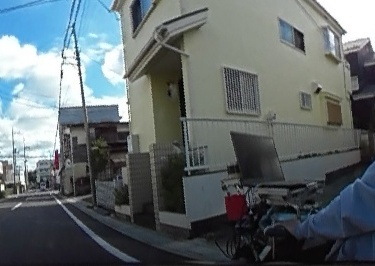person: (276, 35, 375, 266)
